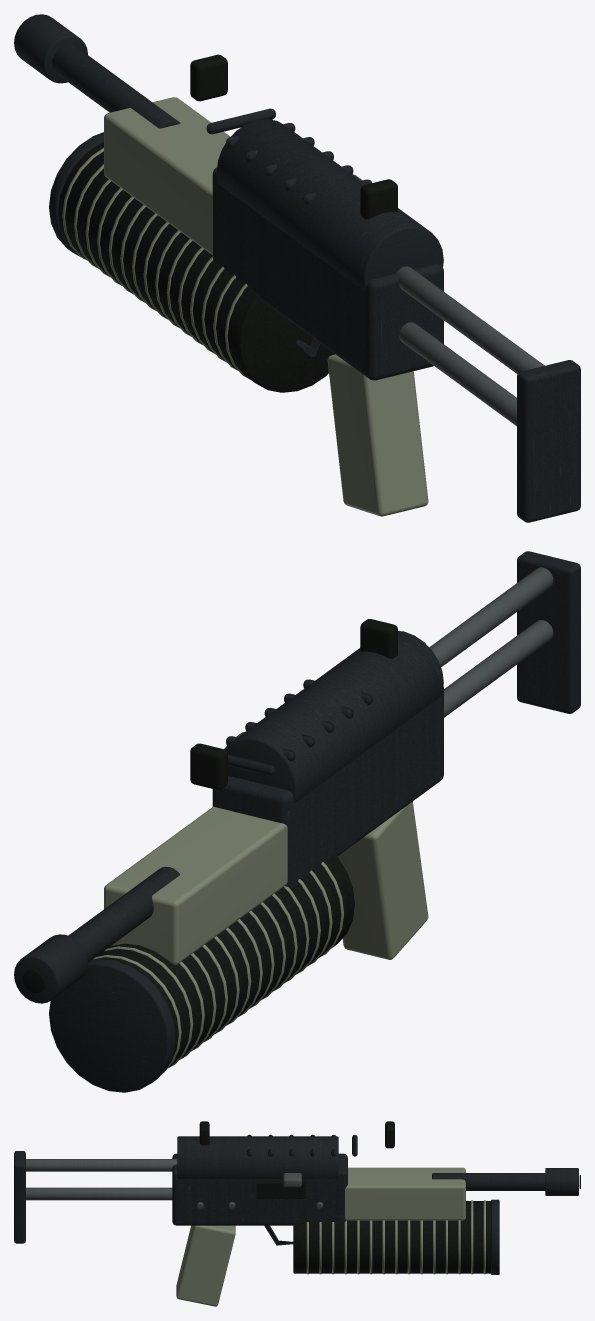
Rendered from bizon.glb.
3 views of the same model, one above another, from view 1: azimuth 30°, elevation 25°; view 2: azimuth 150°, elevation 25°; view 3: azimuth 270°, elevation 25° (orthographic). The views are drawn at different scales.
Visible parts, largest first — view 1: weapon_Manganese phosphate, weapon_Ceramic green, magazine_Reinforced polymer, weapon_Milled fasteners, magazine_Ceramic green, weapon_Reinforced polymer, magazine_Manganese phosphate; view 2: weapon_Manganese phosphate, weapon_Ceramic green, magazine_Reinforced polymer, magazine_Manganese phosphate, weapon_Milled fasteners, magazine_Ceramic green, weapon_Reinforced polymer; view 3: weapon_Manganese phosphate, weapon_Ceramic green, magazine_Reinforced polymer, weapon_Milled fasteners, magazine_Ceramic green, weapon_Reinforced polymer, magazine_Manganese phosphate, bolt_Milled fasteners.
Boxes of the visible parts, <box> form: weapon_Manganese phosphate: <box>14,14,580,522</box>; weapon_Ceramic green: <box>104,97,428,516</box>; magazine_Reinforced polymer: <box>58,142,334,392</box>; weapon_Milled fasteners: <box>396,266,544,426</box>; magazine_Ceramic green: <box>62,147,251,380</box>; weapon_Reinforced polymer: <box>190,54,397,219</box>; magazine_Manganese phosphate: <box>49,132,103,258</box>; weapon_Manganese phosphate: <box>14,551,580,1003</box>; weapon_Ceramic green: <box>104,801,428,964</box>; magazine_Reinforced polymer: <box>91,854,354,1066</box>; magazine_Manganese phosphate: <box>49,959,175,1092</box>; weapon_Milled fasteners: <box>429,567,553,717</box>; magazine_Ceramic green: <box>92,862,344,1072</box>; weapon_Reinforced polymer: <box>23,619,397,993</box>; weapon_Manganese phosphate: <box>14,1134,578,1245</box>; weapon_Ceramic green: <box>176,1167,465,1306</box>; magazine_Reinforced polymer: <box>293,1201,490,1273</box>; weapon_Milled fasteners: <box>26,1159,323,1208</box>; magazine_Ceramic green: <box>306,1200,485,1274</box>; weapon_Reinforced polymer: <box>199,1121,580,1198</box>; magazine_Manganese phosphate: <box>491,1199,499,1274</box>; bolt_Milled fasteners: <box>283,1173,301,1187</box>.
Bounding box in the file's own units: 0.112 × 0.2768 × 0.8075.
Materials: 4 (3 with a texture image).
